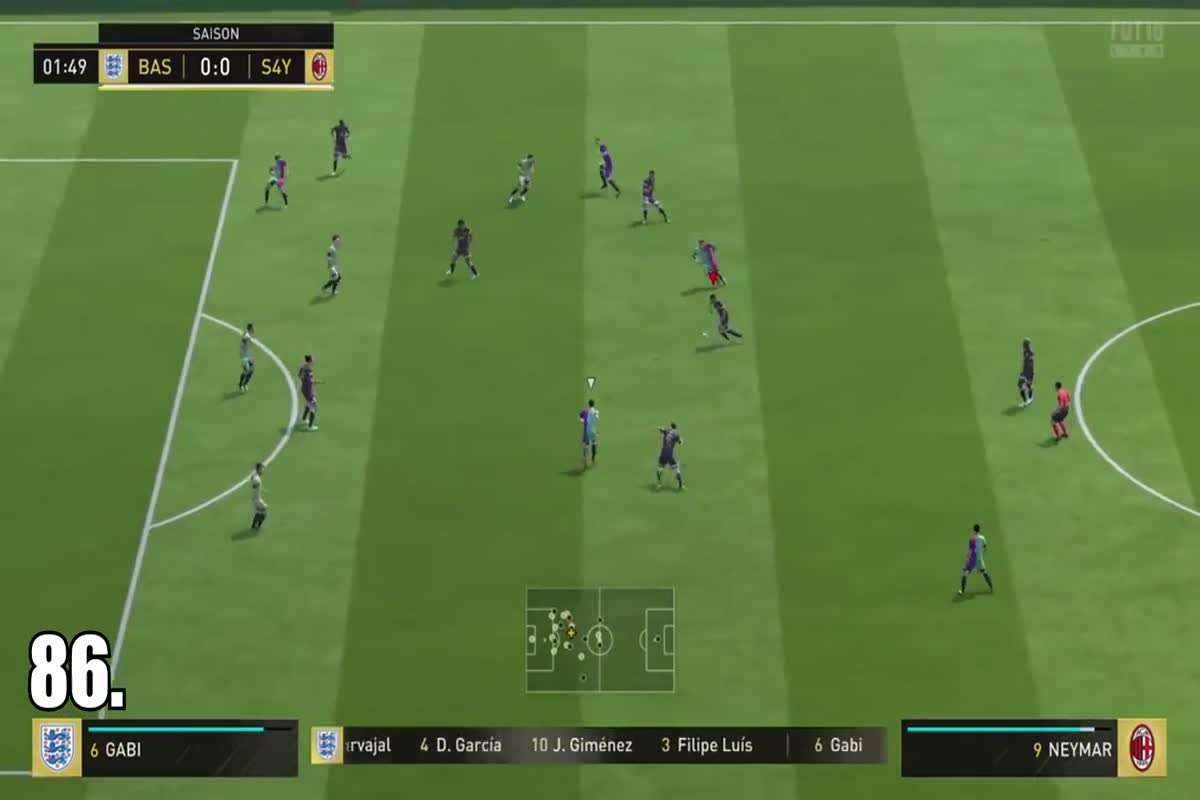ball: (692, 320, 712, 347)
